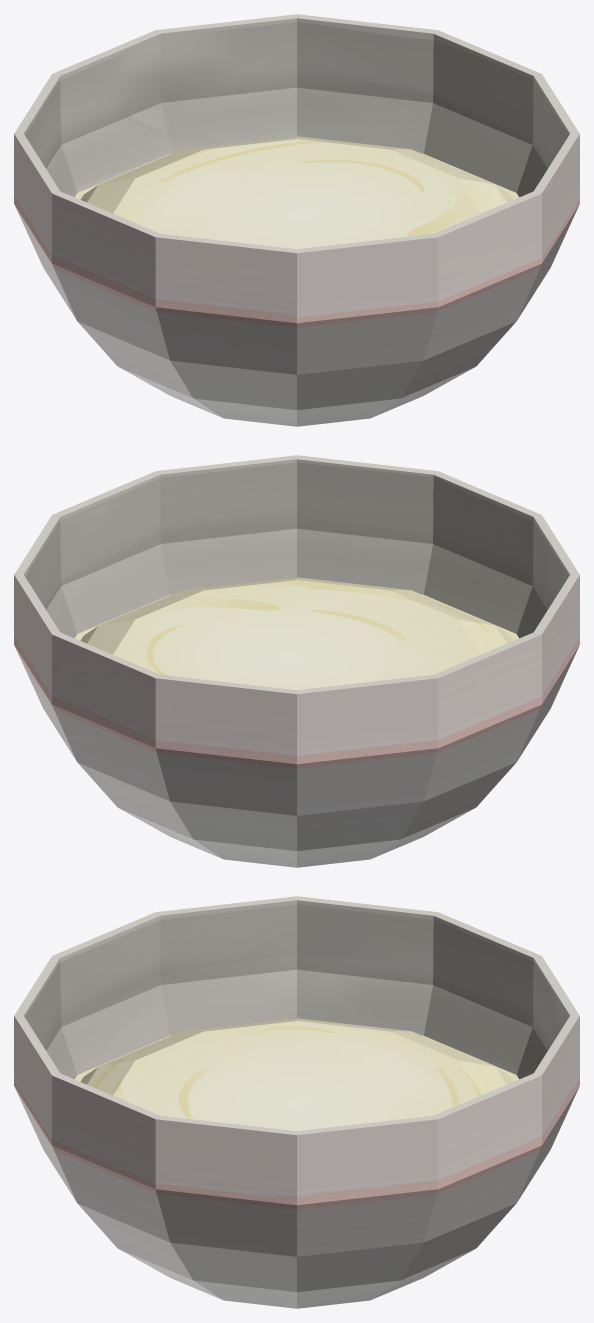
The model's file is bowl.obj.
3 views of the same model, one above another, from view 1: azimuth 30°, elevation 25°; view 2: azimuth 150°, elevation 25°; view 3: azimuth 270°, elevation 25° (orthographic).
Visible parts, largest first — view 1: pSphere1 group2; view 2: pSphere1 group2; view 3: pSphere1 group2.
Boxes of the visible parts, x1=… form: pSphere1 group2: x1=14, y1=14, x2=579, y2=426; pSphere1 group2: x1=14, y1=455, x2=579, y2=867; pSphere1 group2: x1=14, y1=896, x2=579, y2=1308.
Bounding box in the file's own units: 25.52 × 11.5 × 25.52.
